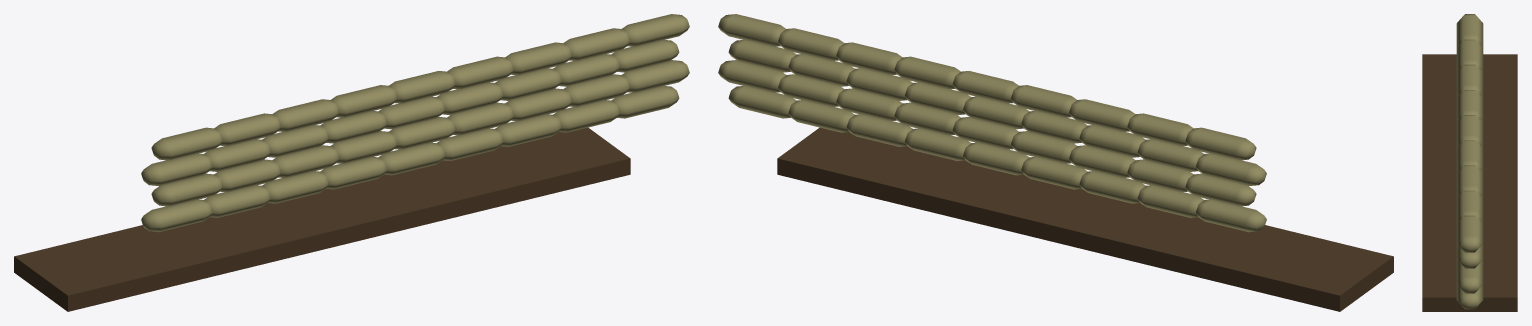
Rendered from sandbag-wall.glb.
3 views of the same model, side by side, from view 1: azimuth 30°, elevation 25°; view 2: azimuth 150°, elevation 25°; view 3: azimuth 270°, elevation 25° (orthographic). The views are drawn at different scales.
Visible parts, largest first — view 1: mudFooting, frontBag4_1, frontBag1_1, frontBag3_1, frontBag2_1, frontBag4_9, frontBag4_5, frontBag4_3, frontBag4_7, frontBag4_8, frontBag4_2, frontBag4_4 (+25 smaller); view 2: mudFooting, frontBag4_1, frontBag1_1, frontBag3_1, frontBag2_1, frontBag4_9, frontBag4_5, frontBag4_3, frontBag4_7, frontBag4_8, frontBag4_2, frontBag4_4 (+25 smaller); view 3: mudFooting, frontBag4_9, frontBag4_3, frontBag4_5, frontBag4_7, frontBag4_8, frontBag4_1, frontBag4_2, frontBag4_6, frontBag2_9, frontBag4_4, frontBag1_9 (+1 smaller).
Boxes of the visible parts, x1,y1,x2,y2 form: mudFooting: [14, 127, 630, 311]; frontBag4_1: [151, 127, 222, 160]; frontBag1_1: [141, 199, 212, 232]; frontBag3_1: [141, 153, 212, 185]; frontBag2_1: [151, 173, 222, 206]; frontBag4_9: [622, 14, 689, 46]; frontBag4_5: [389, 71, 455, 103]; frontBag4_3: [272, 99, 338, 132]; frontBag4_7: [505, 42, 571, 75]; frontBag4_8: [563, 28, 629, 61]; frontBag4_2: [214, 113, 280, 146]; frontBag4_4: [331, 85, 397, 117]; mudFooting: [777, 127, 1393, 311]; frontBag4_1: [1185, 127, 1256, 160]; frontBag1_1: [1195, 199, 1266, 232]; frontBag3_1: [1195, 153, 1266, 185]; frontBag2_1: [1185, 173, 1256, 206]; frontBag4_9: [718, 14, 785, 46]; frontBag4_5: [952, 71, 1018, 103]; frontBag4_3: [1069, 99, 1135, 132]; frontBag4_7: [836, 42, 902, 75]; frontBag4_8: [778, 28, 844, 61]; frontBag4_2: [1127, 113, 1193, 146]; frontBag4_4: [1010, 85, 1076, 117]; mudFooting: [1422, 54, 1517, 311]; frontBag4_9: [1456, 215, 1483, 252]; frontBag4_3: [1456, 64, 1483, 95]; frontBag4_5: [1456, 115, 1483, 145]; frontBag4_7: [1456, 165, 1483, 195]; frontBag4_8: [1456, 190, 1483, 220]; frontBag4_1: [1456, 14, 1483, 44]; frontBag4_2: [1456, 39, 1483, 69]; frontBag4_6: [1456, 140, 1483, 170]; frontBag2_9: [1456, 262, 1483, 293]; frontBag4_4: [1456, 90, 1483, 120]; frontBag1_9: [1456, 284, 1483, 309].
Size of the model in its own units: 5 by 0.8924 by 0.72.
